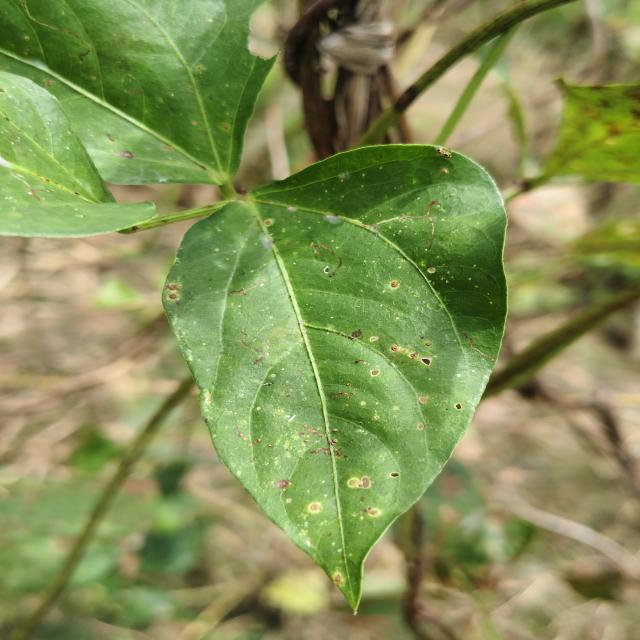sitaw-aphid-high: (162, 144, 507, 610), (2, 0, 274, 174), (0, 48, 230, 237)
